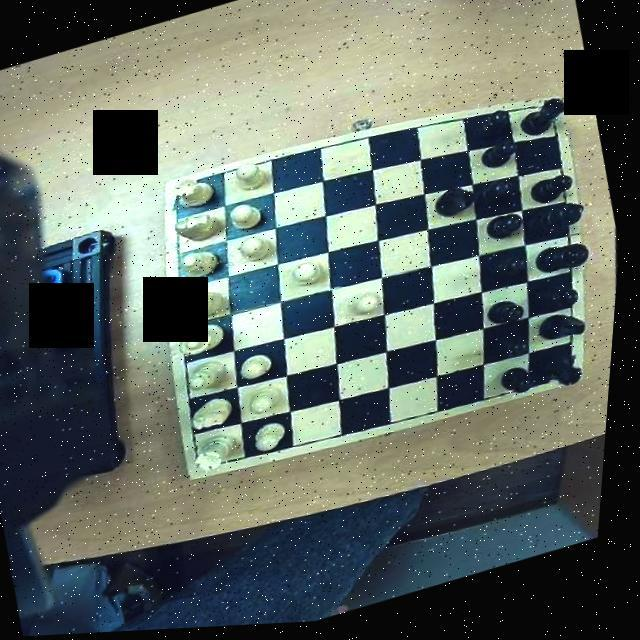chess-table-corners: (160, 174, 204, 217), (189, 440, 231, 482), (549, 354, 592, 395), (534, 96, 574, 132)
